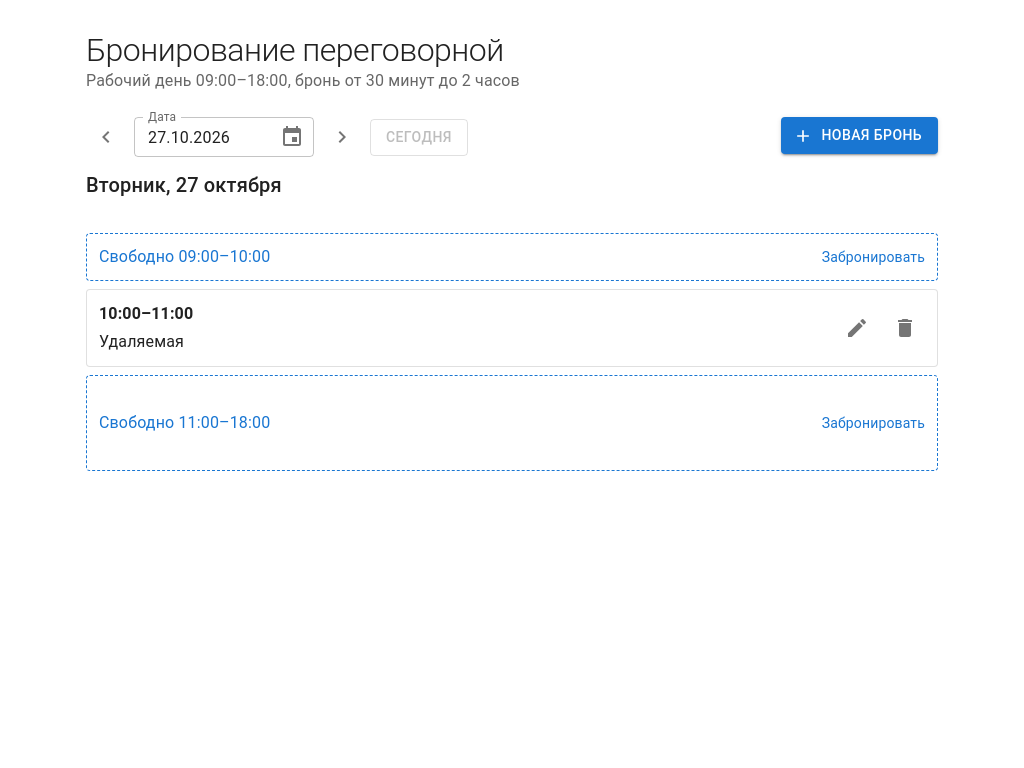
Test: App integration › deletes a booking after confirmation
Click the button named "Удалить бронь 10:00–11:00": (905, 328) [885,308,925,348]
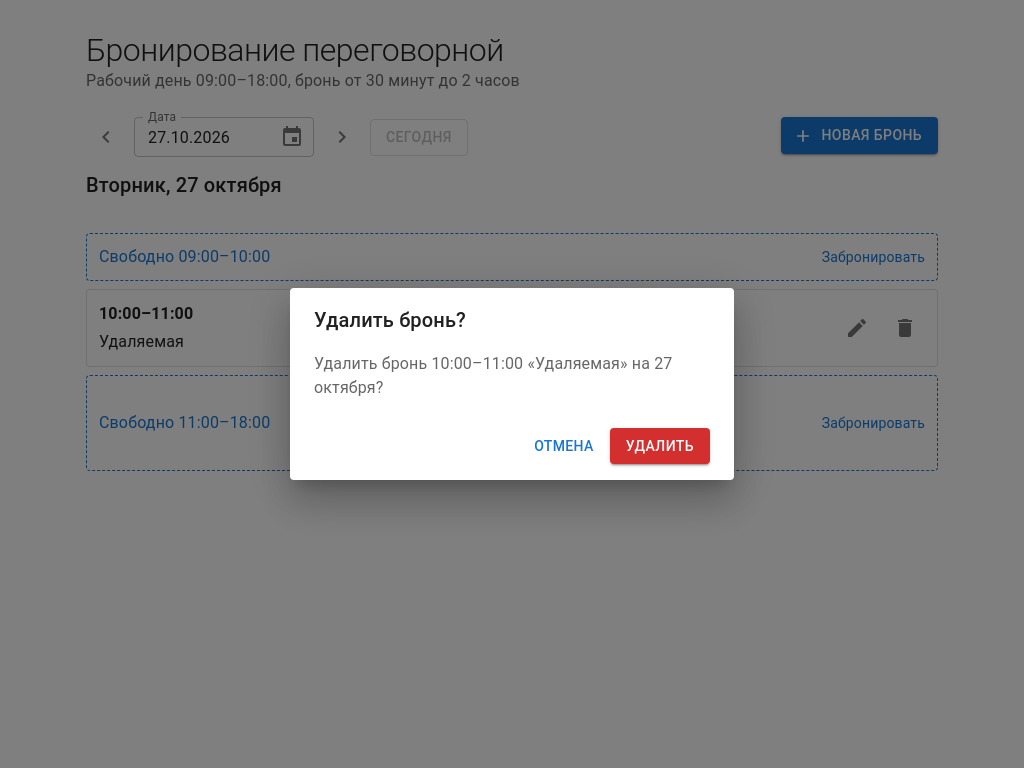
Click the button "Удалить": (660, 446) [610,428,710,464]
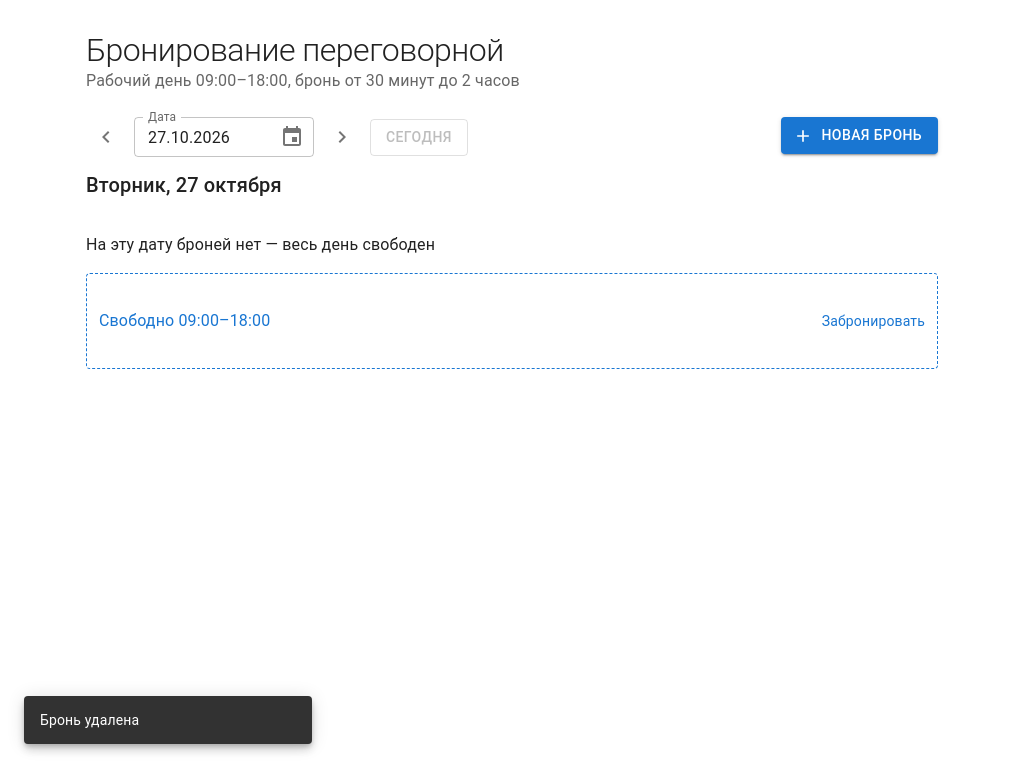
Result: the text "Бронь удалена" is shown at [40,712,139,728]
Result: the button with aria-label "Свободно 09:00–18:00, забронировать" is shown at [86,273,938,369]
